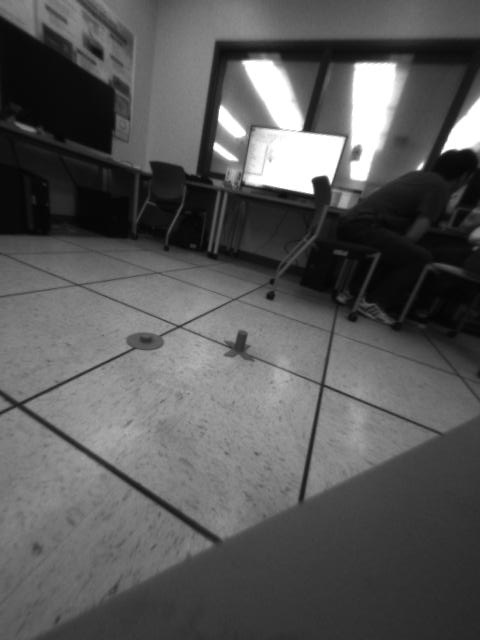X: (224, 330, 255, 361)
